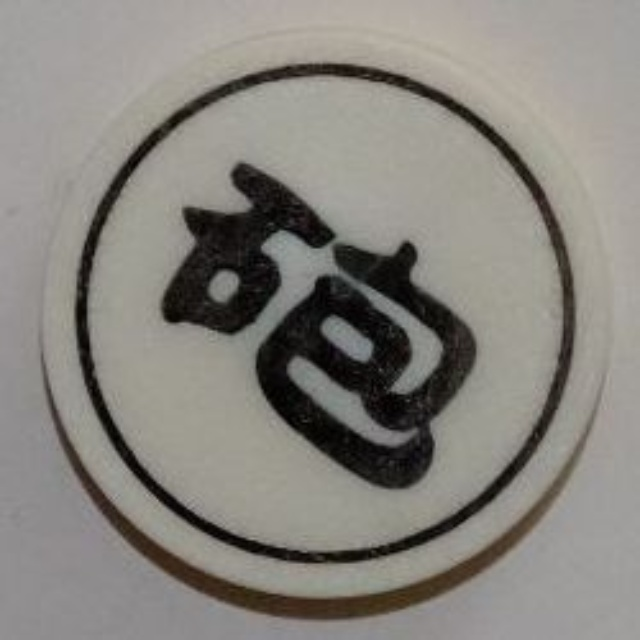black_phao: (36, 29, 616, 605)
